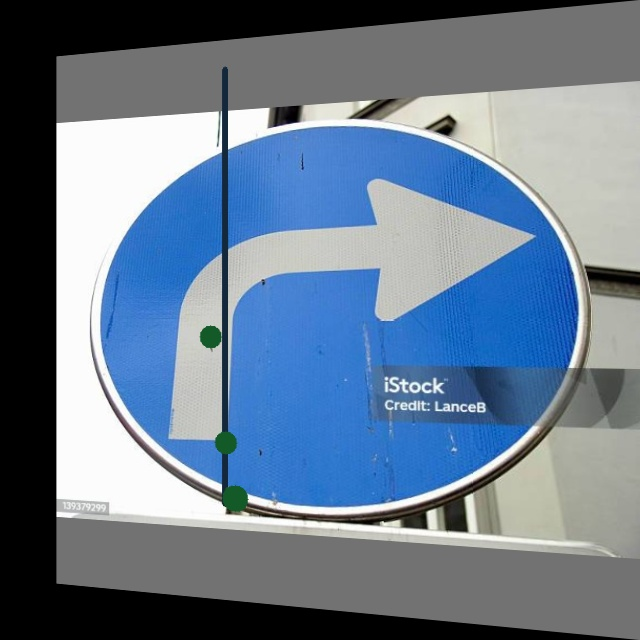Compulsory_Turn_Right_Ahead: (100, 105, 571, 514)
